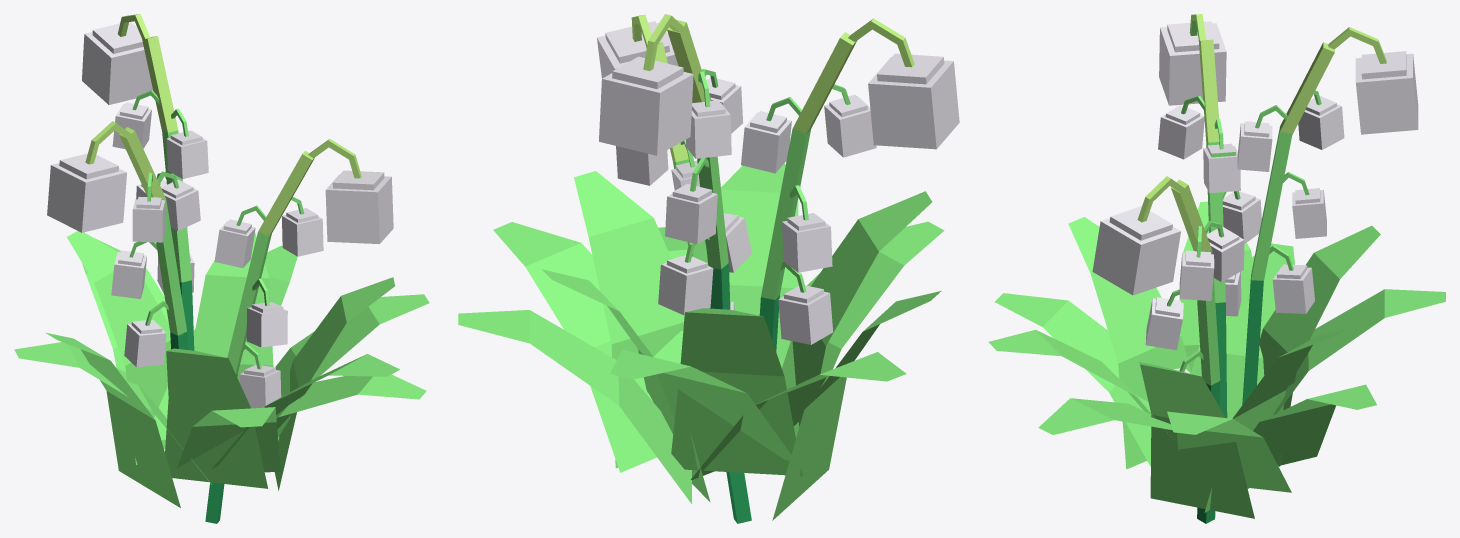
File: Lily of the Valley.gltf
3 views of the same model, side by side, from view 1: azimuth 30°, elevation 25°; view 2: azimuth 150°, elevation 25°; view 3: azimuth 270°, elevation 25° (orthographic). The views are drawn at different scales.
Parts seen in each view (by area): view 1: plane (×12), cube (×21); view 2: plane (×12), cube (×21); view 3: plane (×12), cube (×22).
Boxes of the visible parts, x1,y1,x2,y2 form: plane (×12): (14, 231, 429, 507); cube (×21): (47, 14, 393, 523); plane (×12): (458, 163, 944, 520); cube (×21): (597, 14, 959, 523); plane (×12): (988, 201, 1445, 518); cube (×22): (1092, 14, 1418, 417).
Bounding box in the file's own units: 0.1106 × 0.1315 × 0.1118.
1 material, 1 textured.
